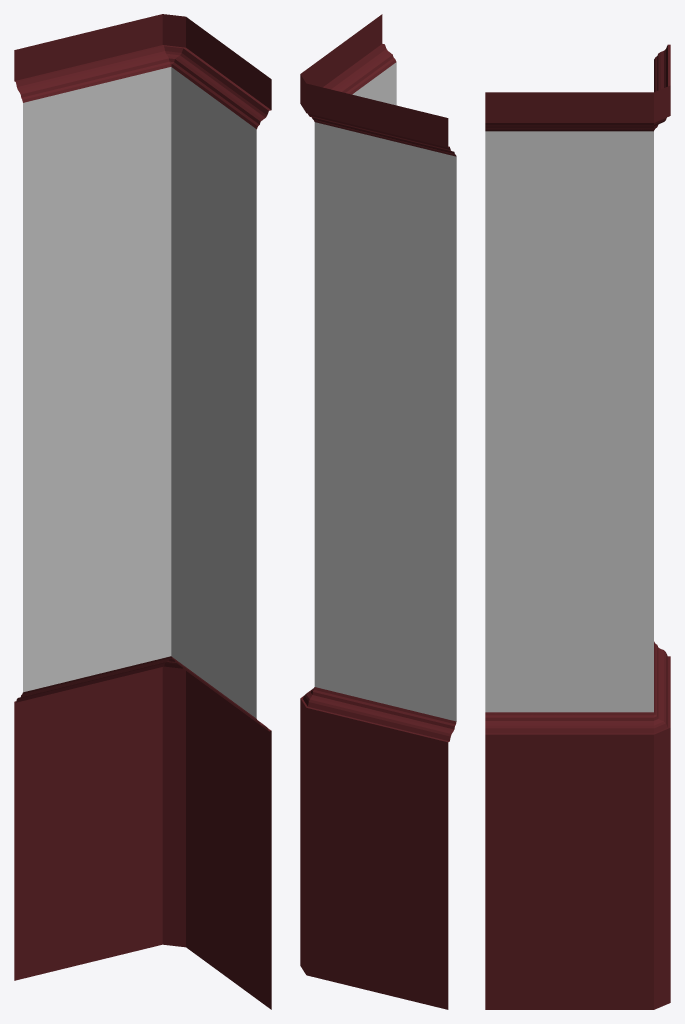
File: sm_corner_reverse_50.fbx
3 renders of one model, left to right at view 1: azimuth 30°, elevation 25°; view 2: azimuth 150°, elevation 25°; view 3: azimuth 270°, elevation 25°, orthographic. The views are drawn at different scales.
Visible parts, largest first — view 1: sm_corner_reverse_50, sm_wall_50; view 2: sm_corner_reverse_50; view 3: sm_corner_reverse_50, sm_wall_50.
Boxes of the visible parts, <box> form: sm_corner_reverse_50: <box>14,14,271,1009</box>; sm_wall_50: <box>171,71,256,719</box>; sm_corner_reverse_50: <box>300,14,456,1009</box>; sm_corner_reverse_50: <box>485,44,670,1009</box>; sm_wall_50: <box>485,129,653,715</box>.
Bounding box in the file's own units: 55 × 300 × 55.
